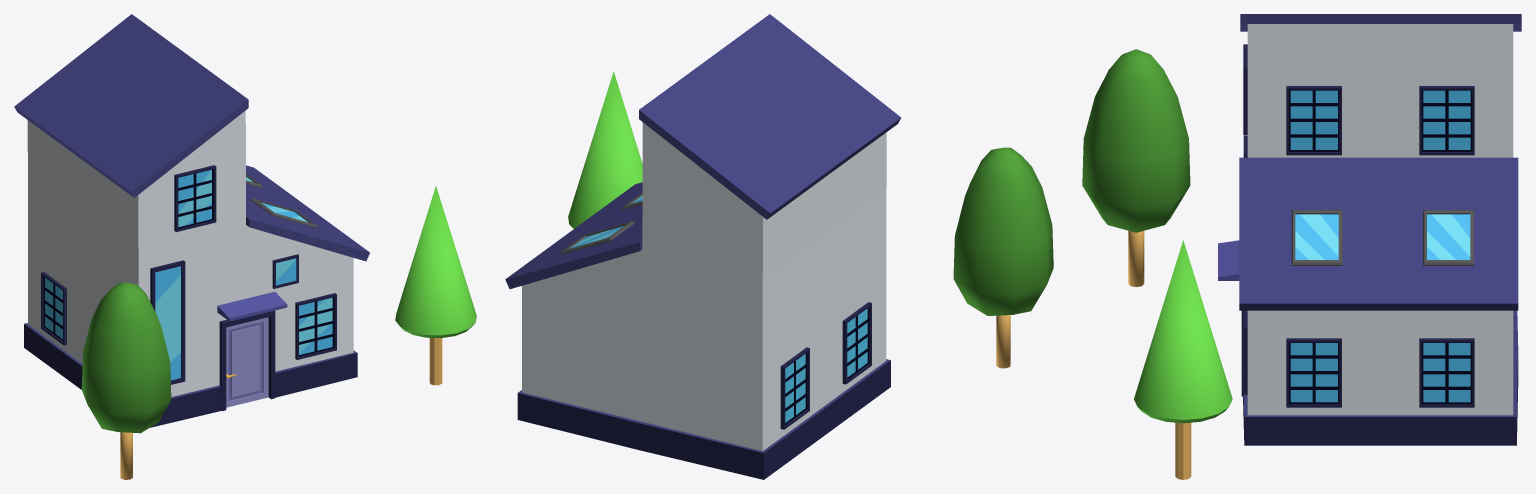
Rendered from main_house.glb.
The picture shows the model from 3 angles, left to right: view 1: azimuth 30°, elevation 25°; view 2: azimuth 150°, elevation 25°; view 3: azimuth 270°, elevation 25°; orthographic projection. The views are drawn at different scales.
Visible parts, largest first — view 1: Prop_ResidentBuilding_02, Prop_Tree_04, Prop_Tree_05, Prop_RoofWindow_02; view 2: Prop_ResidentBuilding_02, Prop_Tree_04, Prop_Tree_05, Prop_RoofWindow_02.001; view 3: Prop_ResidentBuilding_02, Prop_Tree_04, Prop_Tree_05, Prop_RoofWindow_02, Prop_RoofWindow_02.001.
Boxes of the visible parts, x1=… form: Prop_ResidentBuilding_02: x1=14, y1=14, x2=369, y2=427; Prop_Tree_04: x1=81, y1=282, x2=171, y2=479; Prop_Tree_05: x1=395, y1=186, x2=476, y2=385; Prop_RoofWindow_02: x1=251, y1=198, x2=317, y2=227; Prop_ResidentBuilding_02: x1=505, y1=14, x2=901, y2=479; Prop_Tree_04: x1=953, y1=147, x2=1053, y2=368; Prop_Tree_05: x1=568, y1=71, x2=642, y2=228; Prop_RoofWindow_02.001: x1=560, y1=221, x2=634, y2=254; Prop_ResidentBuilding_02: x1=1218, y1=14, x2=1521, y2=445; Prop_Tree_04: x1=1082, y1=49, x2=1190, y2=286; Prop_Tree_05: x1=1134, y1=240, x2=1232, y2=479; Prop_RoofWindow_02: x1=1291, y1=210, x2=1342, y2=265; Prop_RoofWindow_02.001: x1=1423, y1=210, x2=1473, y2=265.
Size of the model in its own units: 10.96 by 7.93 by 8.6.
Materials: 1 (1 with a texture image).
